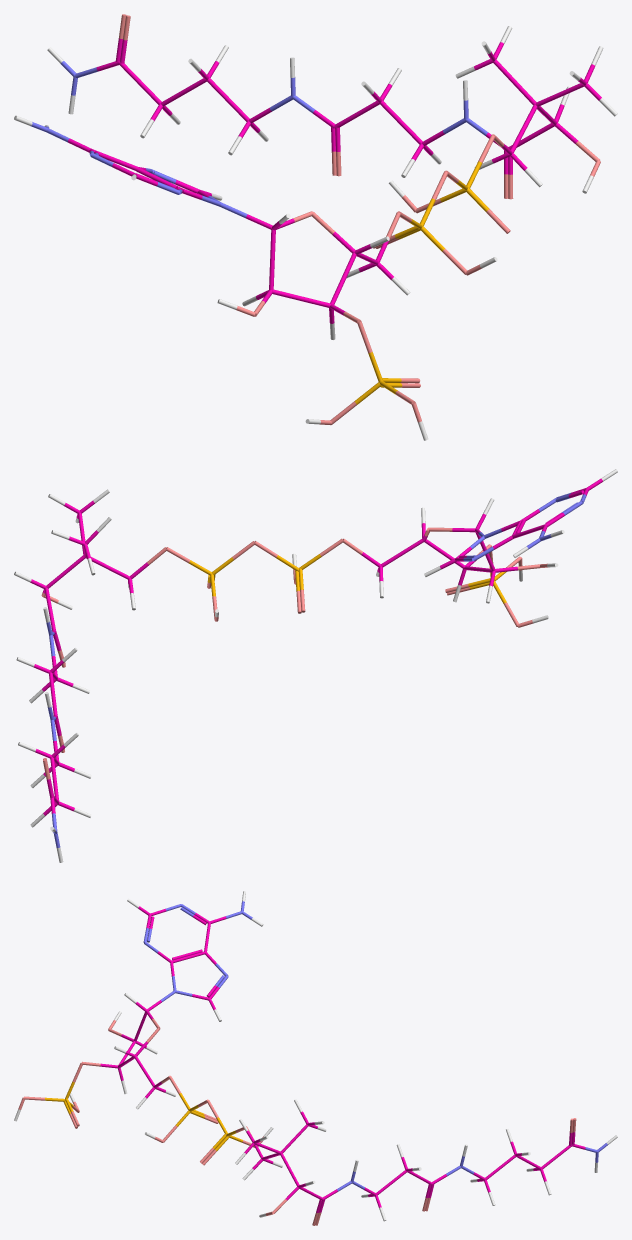
3 renders of one model, top to bottom at view 1: azimuth 30°, elevation 25°; view 2: azimuth 150°, elevation 25°; view 3: azimuth 270°, elevation 25°, orthographic. The views are drawn at different scales.
Bounding box in the file's own units: 1732 × 765 × 2328.
